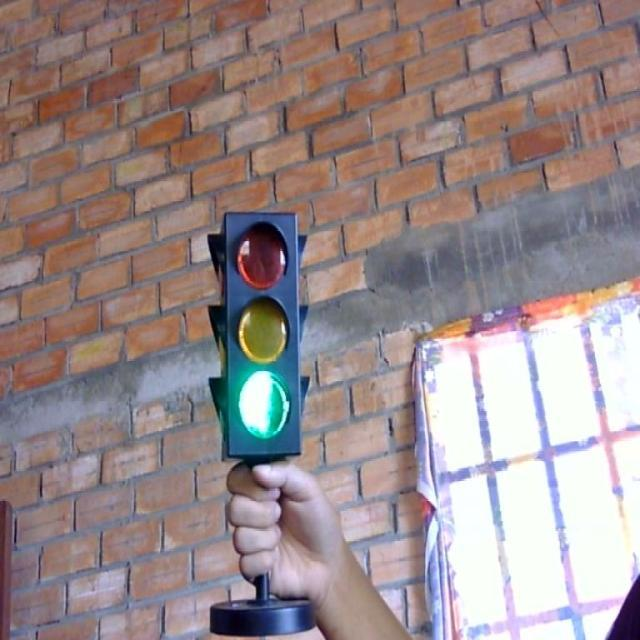green light: (235, 363, 298, 449)
